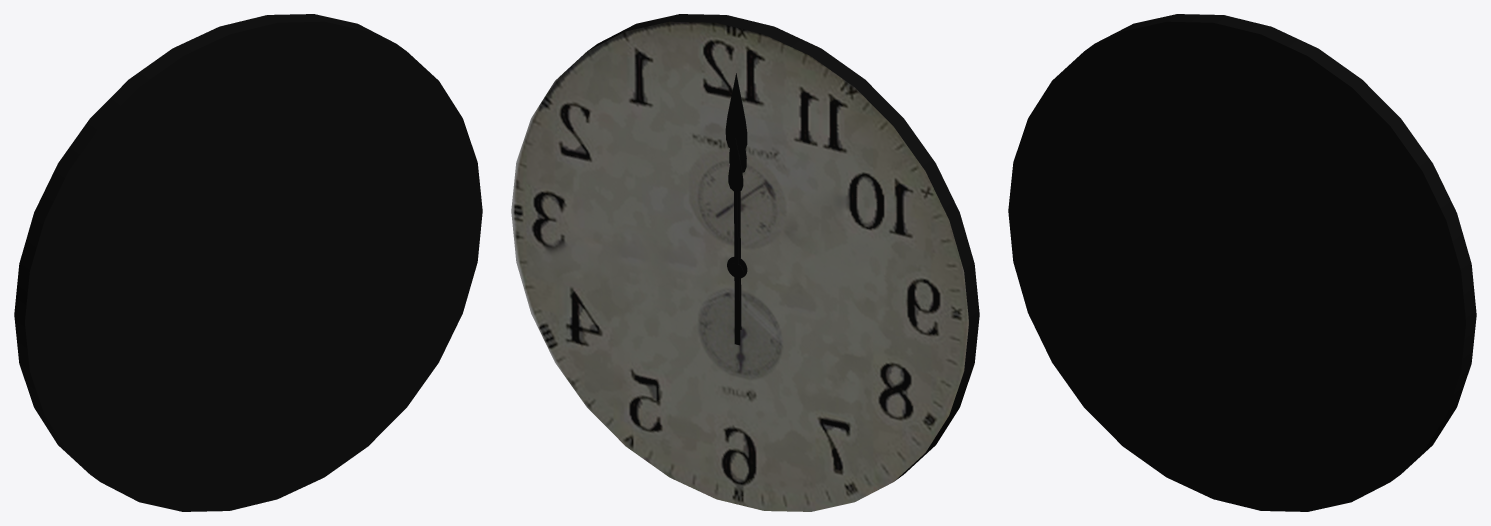
File: TextureClock.obj
The picture shows the model from 3 angles, left to right: view 1: azimuth 30°, elevation 25°; view 2: azimuth 150°, elevation 25°; view 3: azimuth 330°, elevation 25°; orthographic projection.
Parts seen in each view (by area): view 1: Body_body.002; view 2: Body_body.002, SecondHand_arms.005, HourHand_arms.004; view 3: Body_body.002.
Part boxes in pixels (x1,y1,x2,y2): Body_body.002: [14, 14, 482, 511]; Body_body.002: [511, 14, 979, 511]; SecondHand_arms.005: [725, 73, 747, 345]; HourHand_arms.004: [728, 138, 743, 277]; Body_body.002: [1008, 14, 1476, 511].
Bounding box in the file's own units: 19.69 × 19.58 × 1.03.
Materials: 3 (1 with a texture image).
